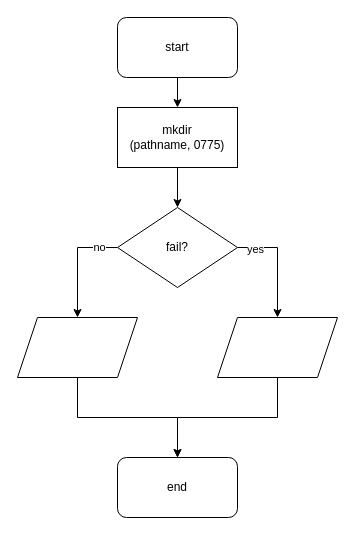
Image size: 355x535. Some labels were removed from this diagram. Each missing label, with the box of its shape:
write error message to result_buf: (216, 316, 338, 378)
write FTP command to result_buf: (16, 316, 138, 378)
